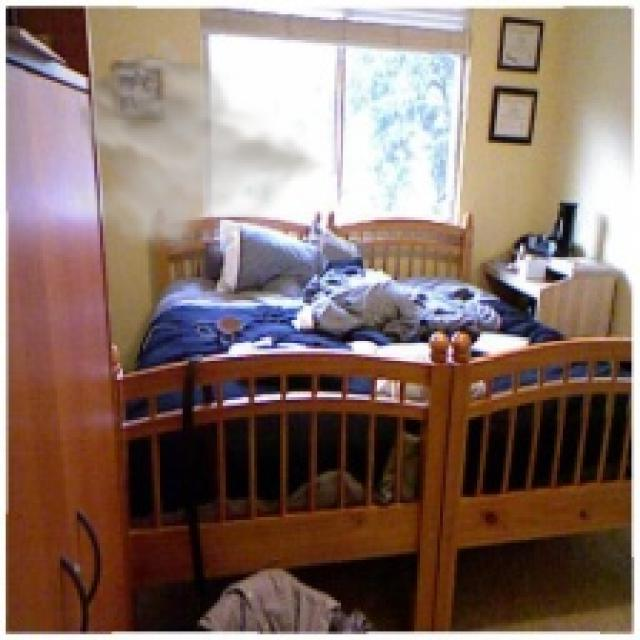smoke: (54, 34, 326, 260)
